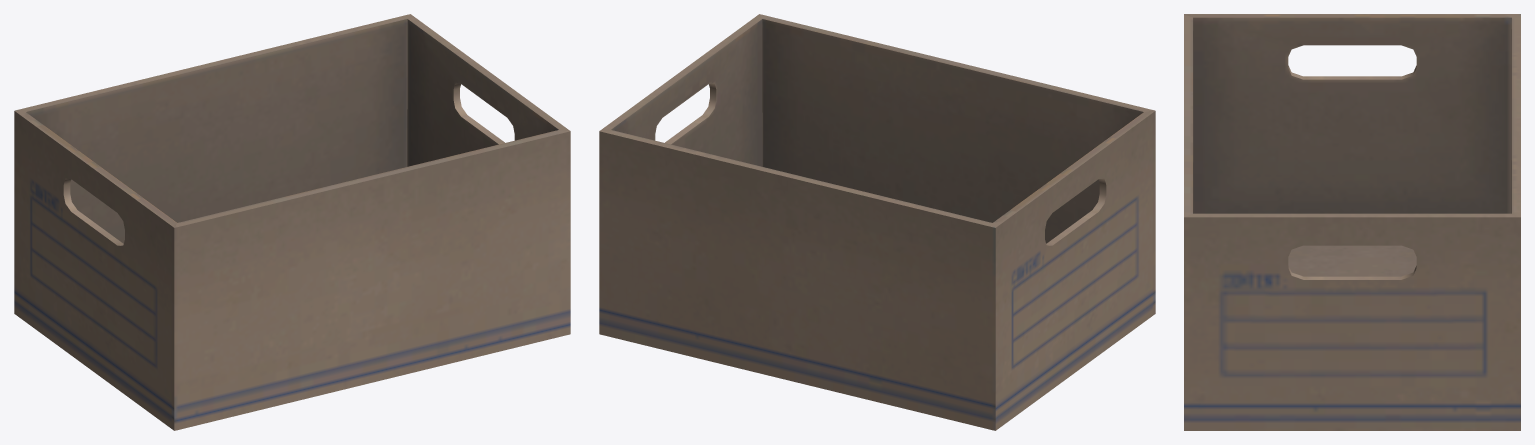
The model's file is propCrate.fbx.
3 views of the same model, side by side, from view 1: azimuth 30°, elevation 25°; view 2: azimuth 150°, elevation 25°; view 3: azimuth 270°, elevation 25° (orthographic). The views are drawn at different scales.
Visible parts, largest first — view 1: propCrate; view 2: propCrate; view 3: propCrate.
Boxes of the visible parts, x1=… form: propCrate: x1=14, y1=14, x2=570, y2=430; propCrate: x1=599, y1=14, x2=1155, y2=430; propCrate: x1=1184, y1=14, x2=1520, y2=430.
Bounding box in the file's own units: 53.41 × 26.14 × 37.38.
1 material, 1 textured.
